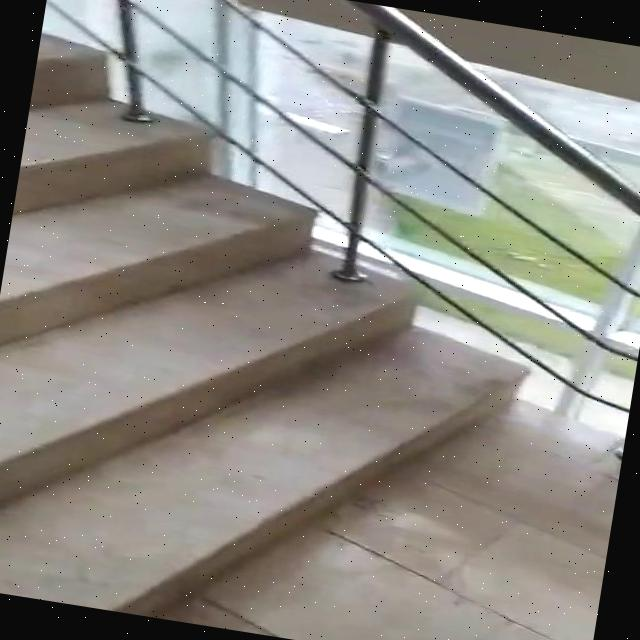stairs: (0, 26, 572, 640)
